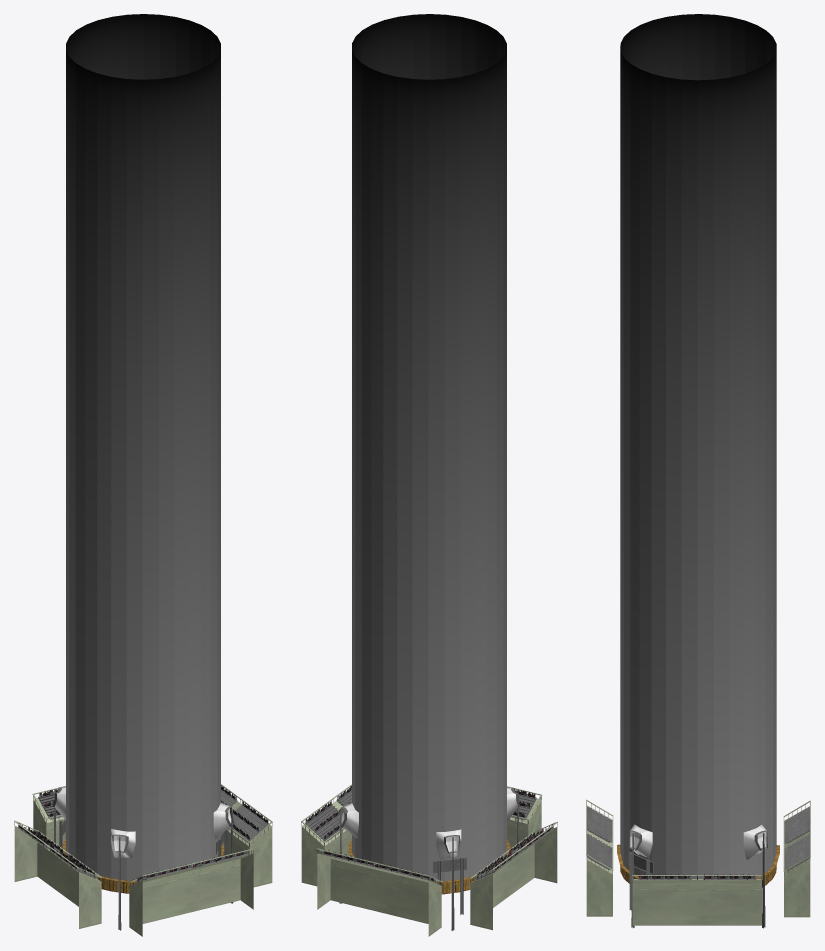
Rendered from Expression.FBX.
The picture shows the model from 3 angles, left to right: view 1: azimuth 30°, elevation 25°; view 2: azimuth 150°, elevation 25°; view 3: azimuth 270°, elevation 25°; orthographic projection.
Visible parts, largest first — view 1: Tube01, GrandStand02, GrandStand01, GrandStand03, GrandStandSeats03, Lights08, GrandStand, Lights09; view 2: Tube01, GrandStand, GrandStand01, GrandStand03, GrandStand02, Lights11, GrandStandSeats03, Box04, Lights10; view 3: Tube01, GrandStand03, GrandStand, GrandStand02, GrandStandSeats, GrandStandSeats02, Lights10, Lights09.
Part boxes in pixels (<box>): Tube01: <box>62,14,224,893</box>; GrandStand02: <box>128,848,254,936</box>; GrandStand01: <box>14,820,102,928</box>; GrandStand03: <box>221,784,272,887</box>; GrandStandSeats03: <box>221,789,268,842</box>; Lights08: <box>111,829,135,930</box>; GrandStand: <box>32,786,65,845</box>; Lights09: <box>213,802,234,903</box>; Tube01: <box>348,14,510,894</box>; GrandStand: <box>316,848,442,936</box>; GrandStand01: <box>470,821,557,930</box>; GrandStand03: <box>301,784,351,886</box>; GrandStand02: <box>507,786,542,848</box>; Lights11: <box>436,829,461,930</box>; GrandStandSeats03: <box>305,790,351,842</box>; Box04: <box>433,857,466,914</box>; Lights10: <box>338,802,358,903</box>; Tube01: <box>617,14,779,887</box>; GrandStand03: <box>632,875,762,925</box>; GrandStand: <box>783,800,810,917</box>; GrandStand02: <box>586,799,613,916</box>; GrandStandSeats: <box>784,807,809,870</box>; GrandStandSeats02: <box>587,806,612,869</box>; Lights10: <box>743,825,767,928</box>; Lights09: <box>629,824,652,927</box>.
Size of what is drawn, in the model's own units: 10075 by 42192 by 10075.
